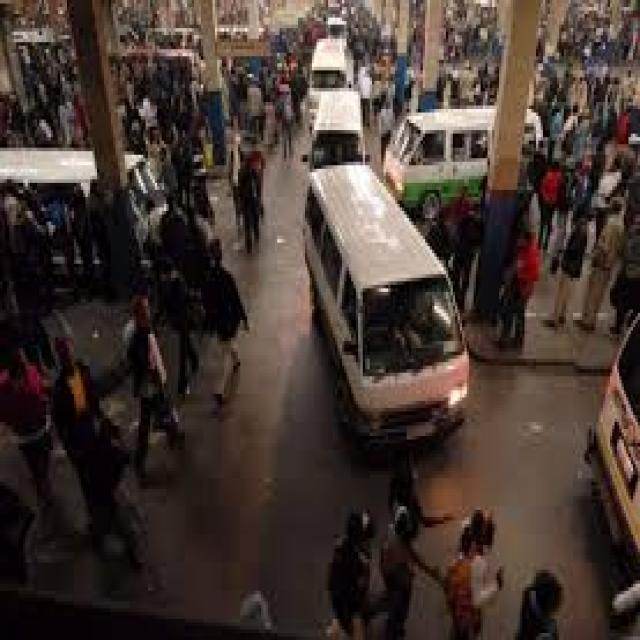MiniBus taxi: (301, 162, 478, 460)
Pedestrians: (192, 236, 252, 408)
